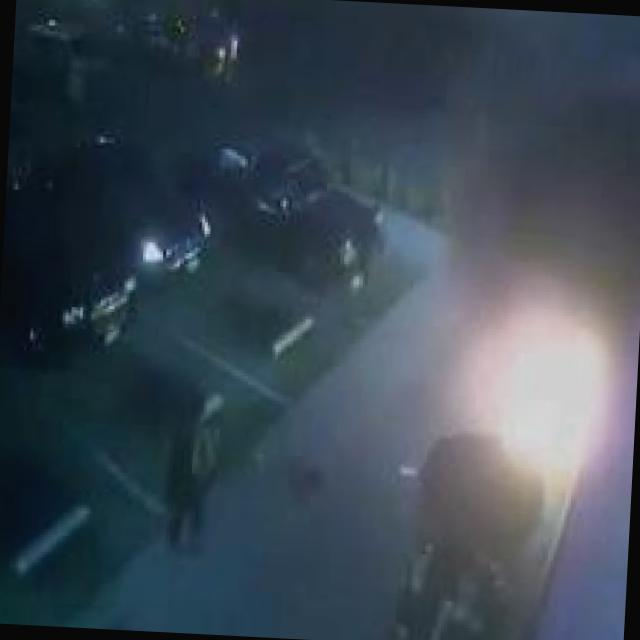fire: (454, 279, 624, 544)
